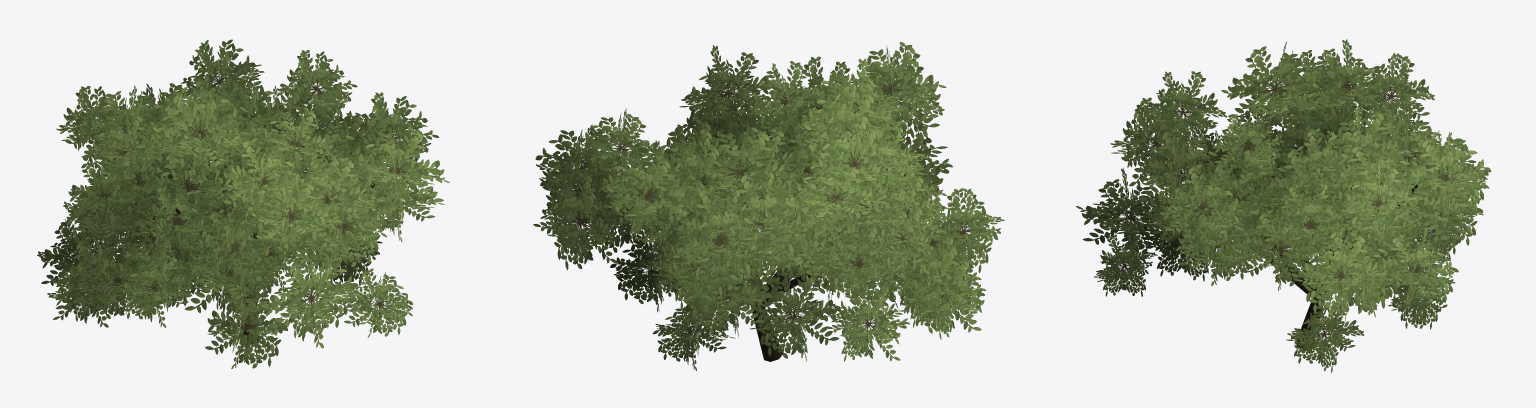
The model's file is arbusto.glb.
The picture shows the model from 3 angles, left to right: view 1: azimuth 30°, elevation 25°; view 2: azimuth 150°, elevation 25°; view 3: azimuth 270°, elevation 25°; orthographic projection. The views are drawn at different scales.
Visible parts, largest first — view 1: arbusto; view 2: arbusto; view 3: arbusto.
Boxes of the visible parts, box(x1,y1,x2,y2) form: arbusto: box(37, 39, 449, 368); arbusto: box(533, 42, 1004, 370); arbusto: box(1076, 39, 1491, 373).
Bounding box in the file's own units: 2.55 × 1.58 × 2.42.
2 materials, 1 textured.
